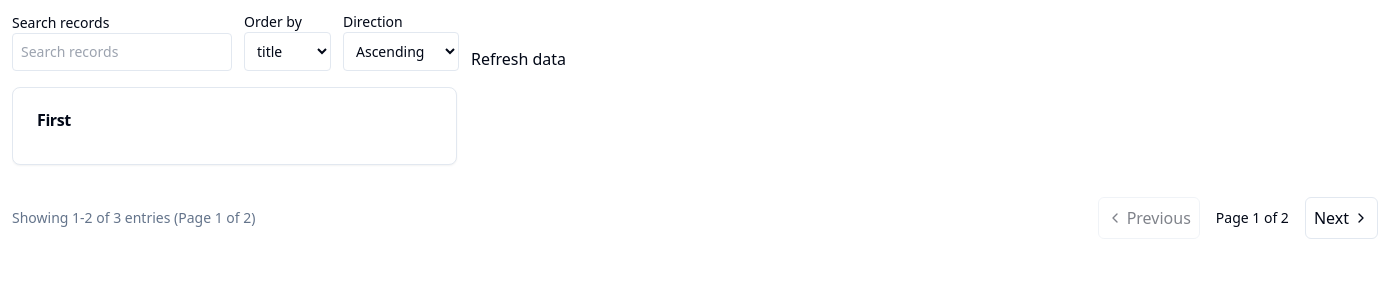
Grid retains browsing controls on empty results, pages and refreshes live records
Expected: the heading "First" is shown, [37,109,71,131]
Click the button "Next".
click(1341, 218)  # box [1305,197,1378,239]
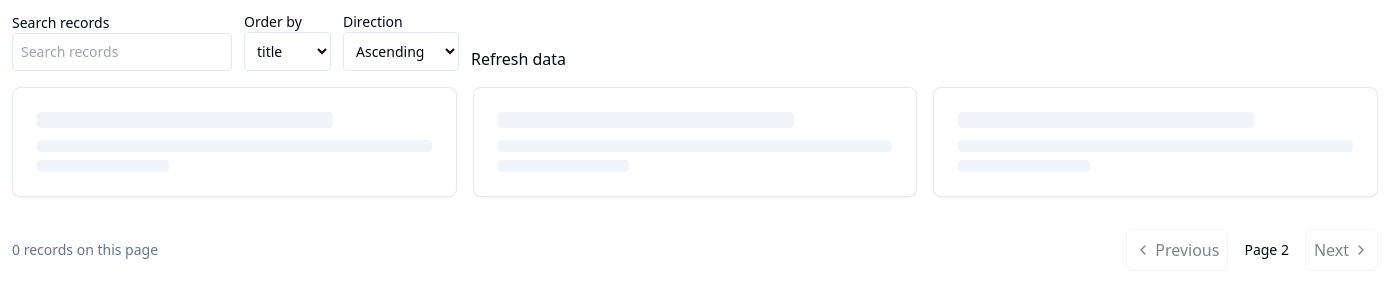
Type "no match" into the search field labelled "Search records".
click(122, 52); type("no match")  # box [12,33,232,71]
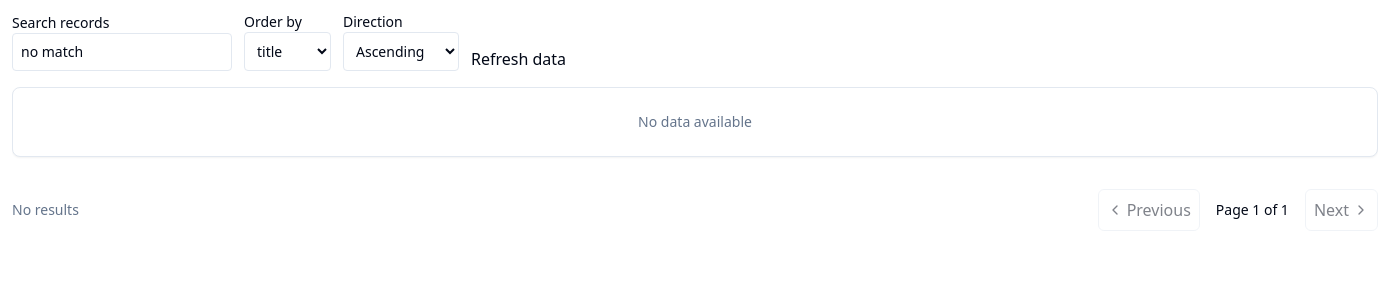
Expected: the text "No data available" is shown, [638,112,752,131]
Expected: the text "No results" is shown, [12,200,79,219]
Clear the search field at [122, 52], box [12,33,232,71]
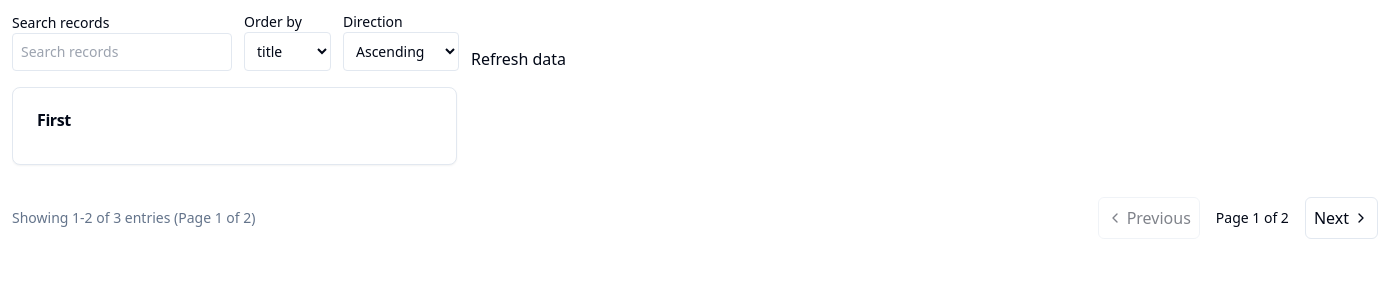
Expected: the heading "First" is shown, [37,109,71,131]
Click the button "Refresh data".
click(519, 59)  # box [471,47,566,71]
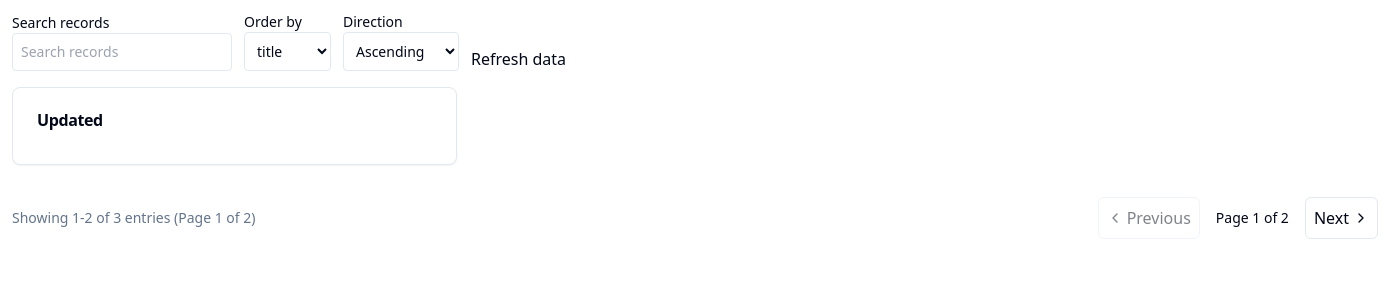
Expected: the heading "Updated" is shown, [37,109,103,131]
